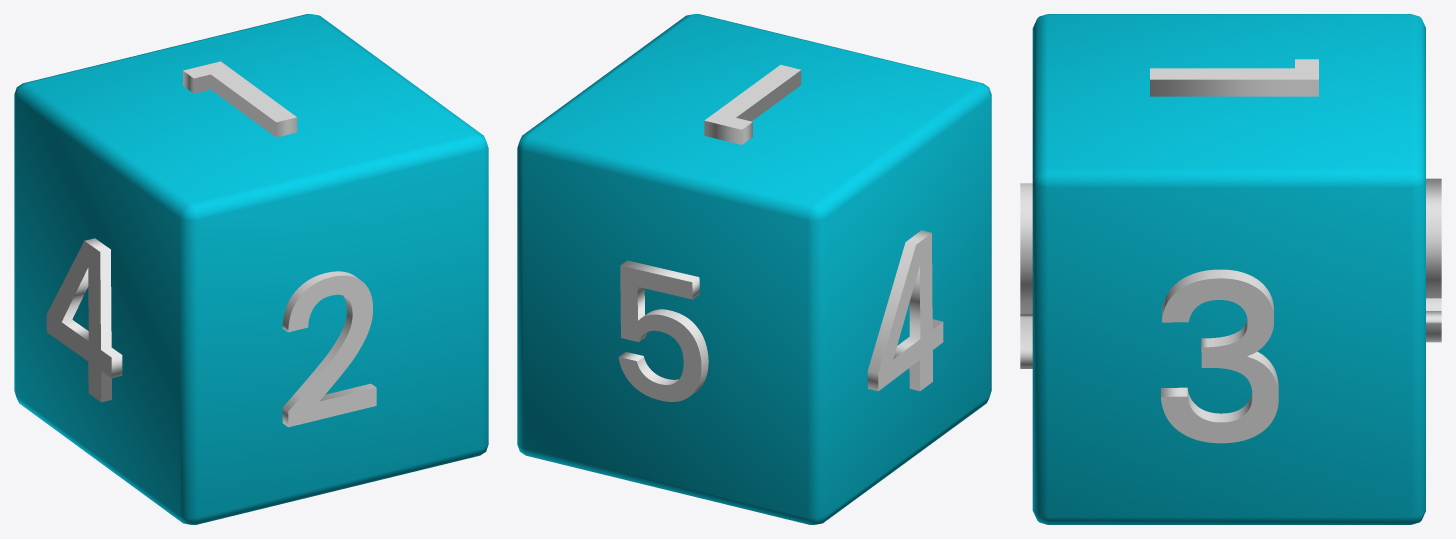
3 renders of one model, left to right at view 1: azimuth 30°, elevation 25°; view 2: azimuth 150°, elevation 25°; view 3: azimuth 270°, elevation 25°, orthographic. The views are drawn at different scales.
Visible parts, largest first — view 1: d6, d6_numbers; view 2: d6, d6_numbers; view 3: d6, d6_numbers.
Part boxes in pixels (x1,y1,x2,y2): d6: (14,14,488,524); d6_numbers: (46,61,376,427); d6: (517,14,991,524); d6_numbers: (618,64,943,401); d6: (1032,14,1425,524); d6_numbers: (1020,59,1441,443).
Bounding box in the file's own units: 0.5508 × 0.5482 × 0.5425.
